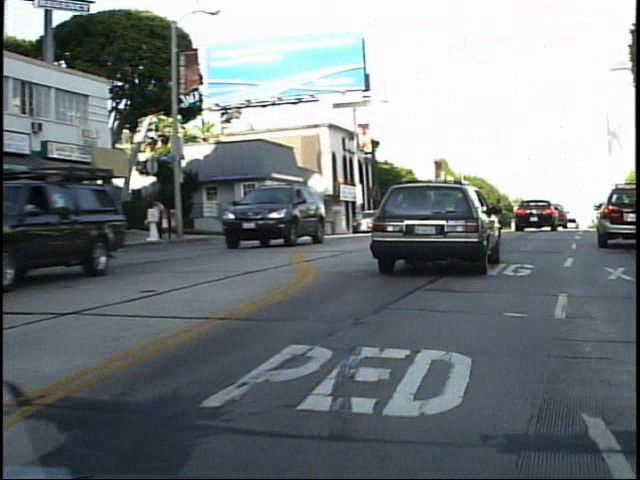person: (157, 195, 179, 242)
